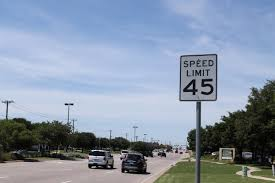speedLimit45: (178, 53, 218, 102)
